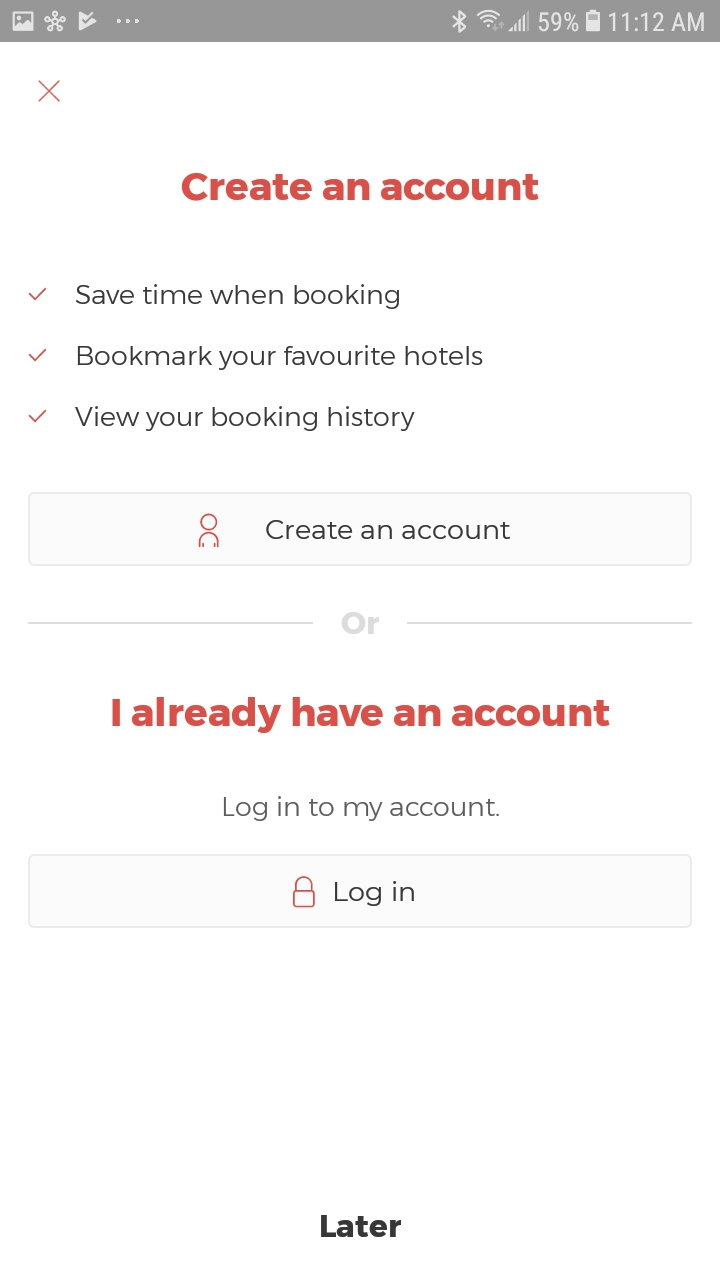Icon: (38, 79, 62, 104), (29, 288, 48, 302), (29, 349, 48, 363), (30, 410, 48, 423)
Text: (113, 696, 611, 734), (77, 345, 483, 371), (182, 173, 540, 202), (75, 406, 416, 433), (76, 283, 400, 310), (223, 794, 500, 822), (321, 1214, 402, 1238), (342, 611, 380, 636)
TextButton: (29, 491, 693, 567), (28, 854, 693, 929)
UpperTaskBar: (1, 1, 720, 43)
